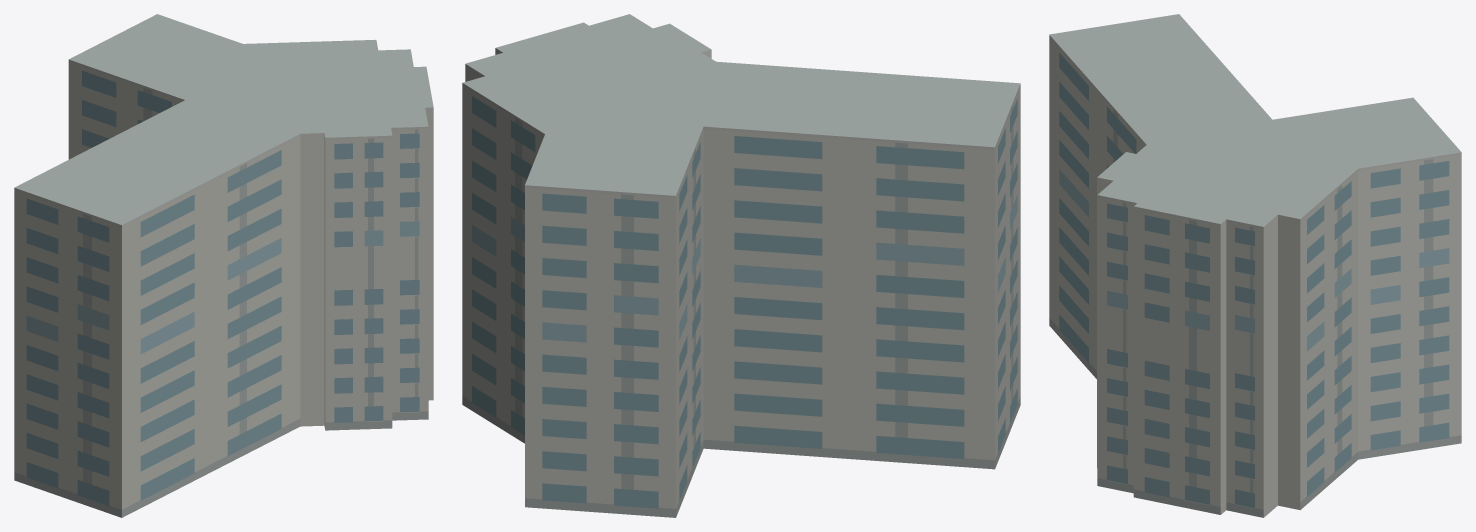
File: residential-069400b4-7c59-415a-93dc-f1a34ade42af.glb
3 views of the same model, side by side, from view 1: azimuth 30°, elevation 25°; view 2: azimuth 150°, elevation 25°; view 3: azimuth 270°, elevation 25° (orthographic). The views are drawn at different scales.
Parts seen in each view (by area): view 1: residential-069400b4-7c59-415a-93dc-f1a34ade42af.tmp; view 2: residential-069400b4-7c59-415a-93dc-f1a34ade42af.tmp; view 3: residential-069400b4-7c59-415a-93dc-f1a34ade42af.tmp.
Boxes of the visible parts, x1=… form: residential-069400b4-7c59-415a-93dc-f1a34ade42af.tmp: x1=14, y1=14, x2=433, y2=517; residential-069400b4-7c59-415a-93dc-f1a34ade42af.tmp: x1=462, y1=14, x2=1020, y2=517; residential-069400b4-7c59-415a-93dc-f1a34ade42af.tmp: x1=1049, y1=14, x2=1461, y2=517.
Bounding box in the file's own units: 51.81 × 33 × 42.41.
